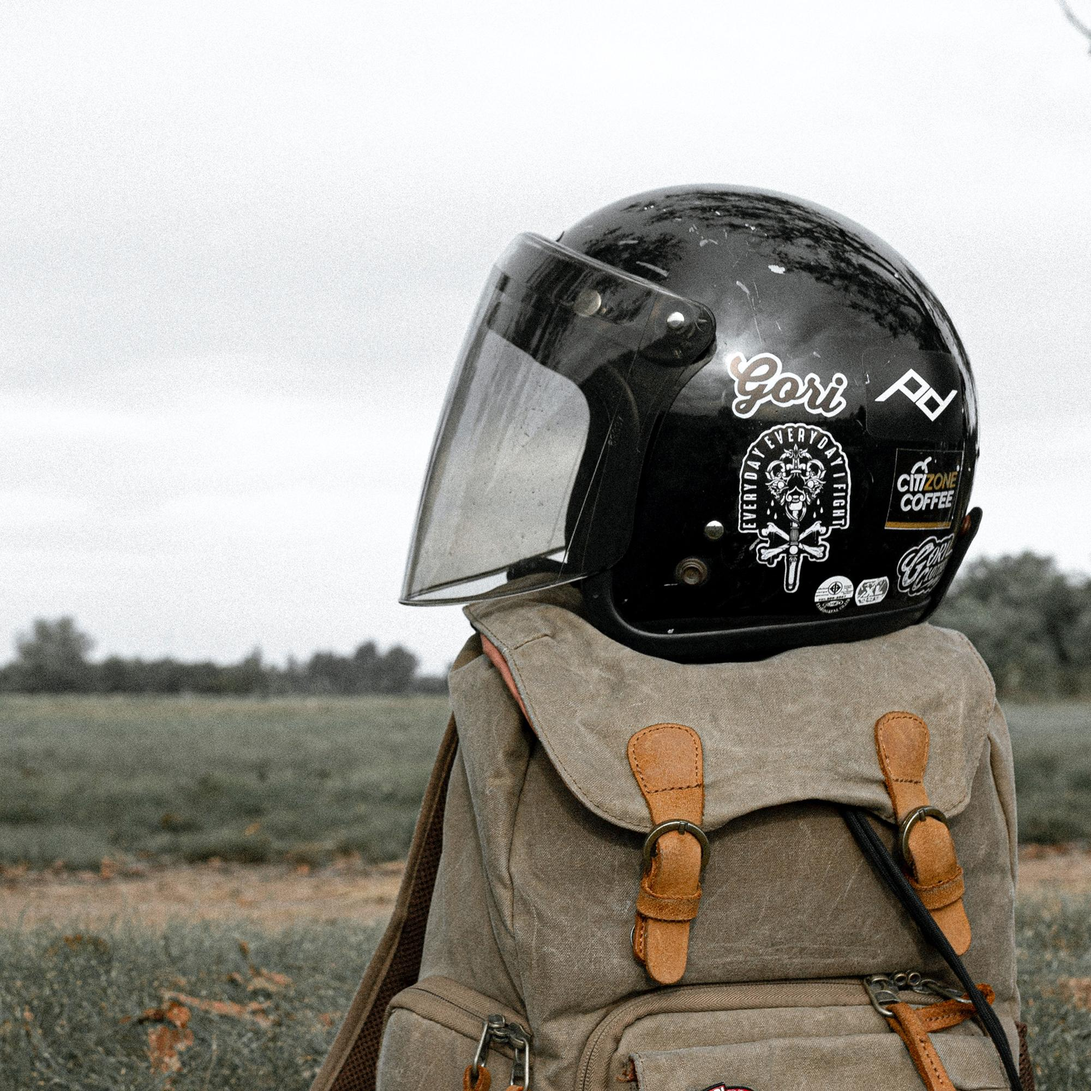helmet: (395, 179, 985, 660)
